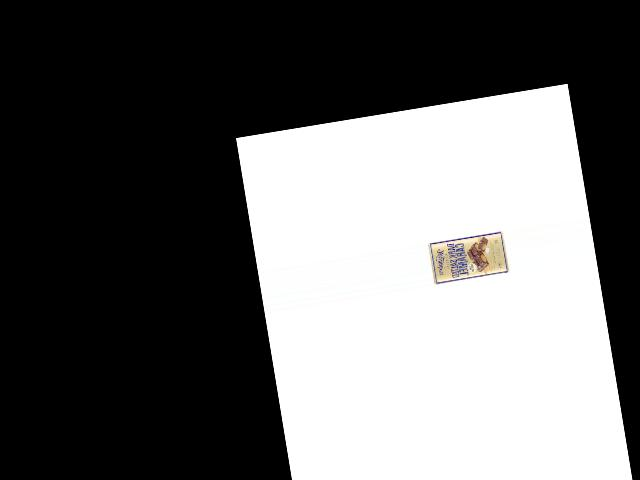chocolate: (428, 229, 511, 287)
